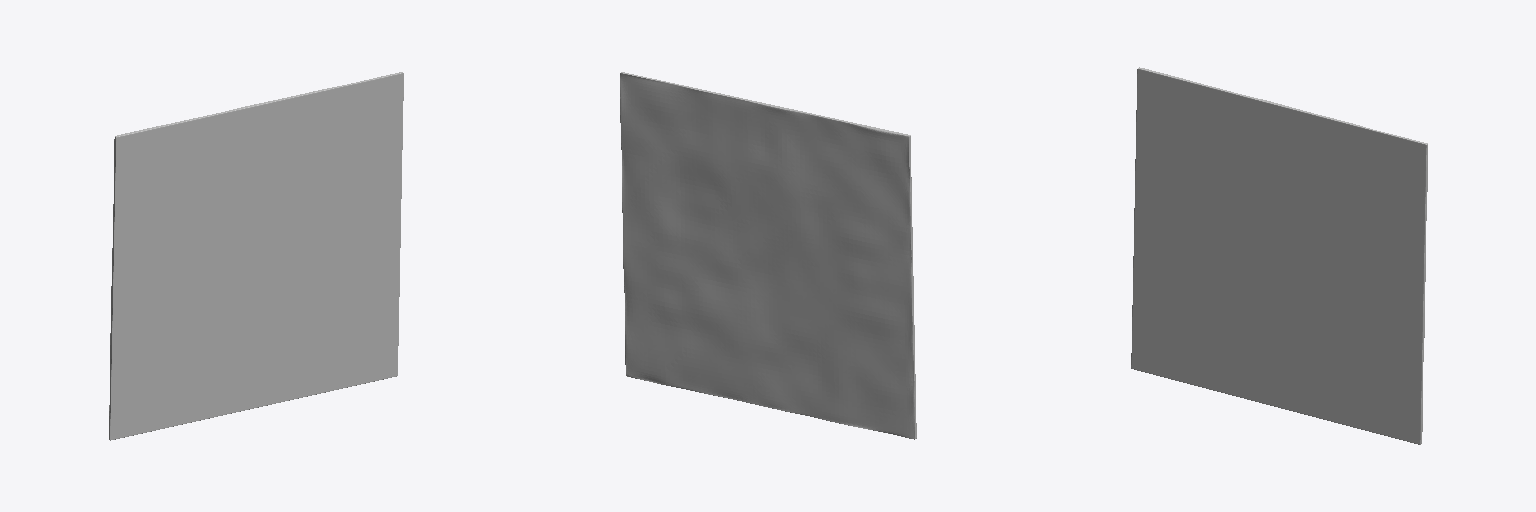
File: grass_2.obj
The picture shows the model from 3 angles: view 1: azimuth 30°, elevation 25°; view 2: azimuth 150°, elevation 25°; view 3: azimuth 330°, elevation 25°; orthographic projection.
Visible parts, largest first — view 1: grass_2; view 2: grass_2; view 3: grass_2.
Boxes of the visible parts, x1,y1,x2,y2 form: grass_2: [109, 72, 403, 440]; grass_2: [620, 72, 916, 439]; grass_2: [1131, 67, 1427, 444].
Bounding box in the file's own units: 1543 × 1543 × 27.24.